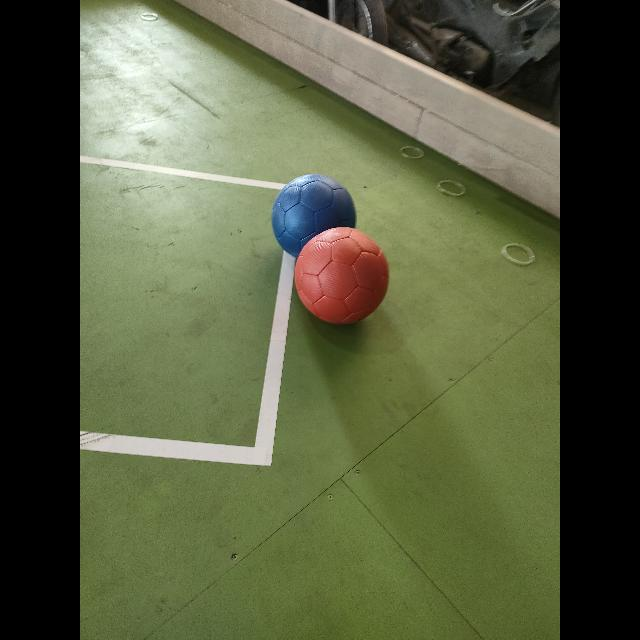B: (272, 174, 356, 258)
R: (295, 227, 389, 323)
